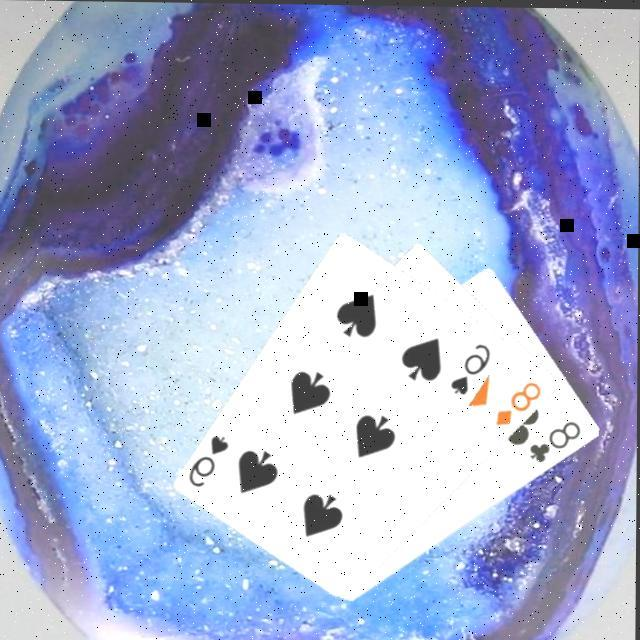6S: (447, 339, 494, 398), (186, 432, 232, 492)
8C: (526, 416, 584, 466)
8D: (492, 378, 546, 429)
